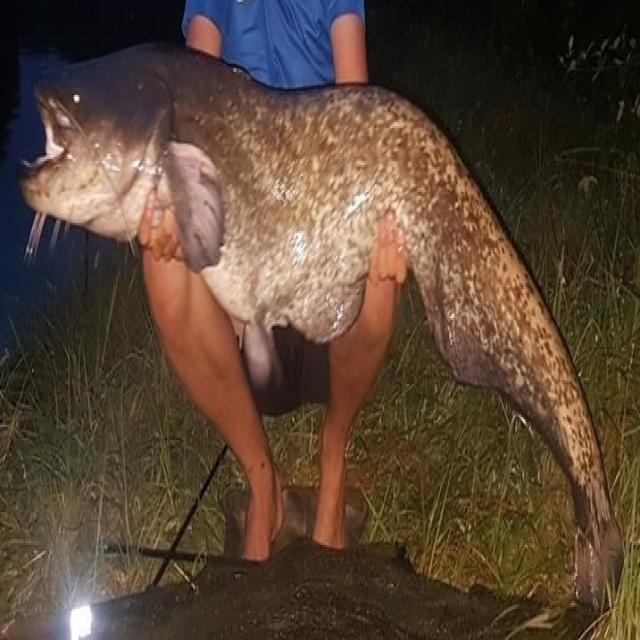Catfish: (16, 20, 629, 630)
